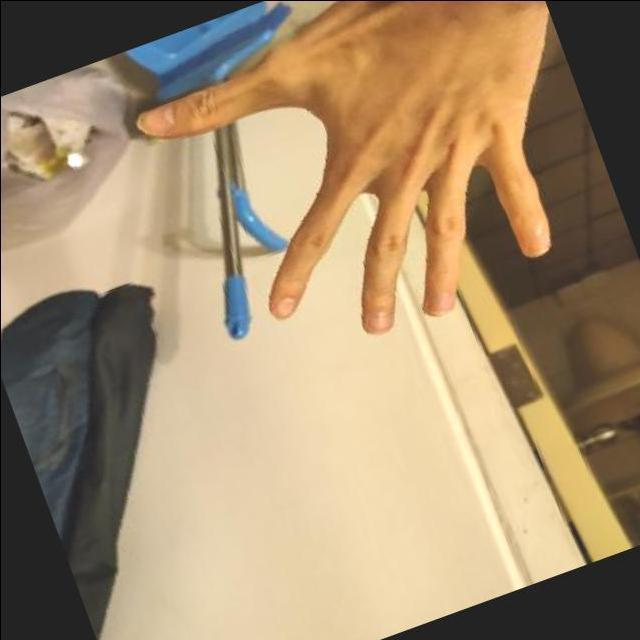hand: (95, 0, 637, 407)
